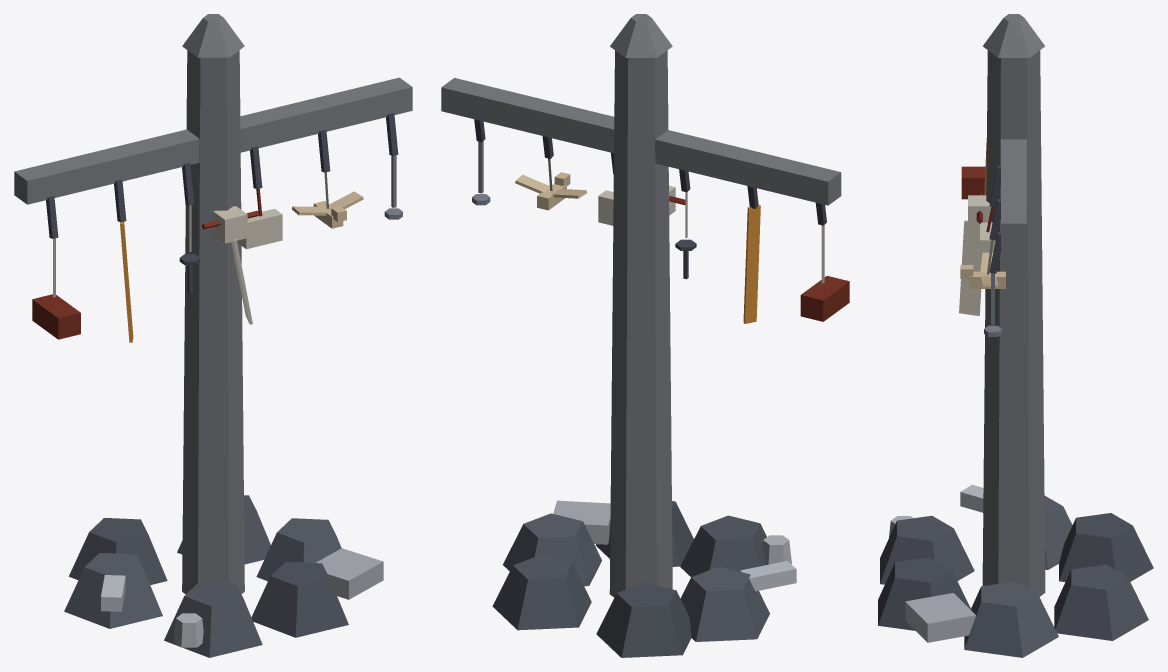
File: letting_post_word.glb
3 renders of one model, left to right at view 1: azimuth 30°, elevation 25°; view 2: azimuth 150°, elevation 25°; view 3: azimuth 270°, elevation 25°, orthographic.
Visible parts, largest first — view 1: silverfog_d40, slate_d30, slate_d20, slate_d25, bone_d15, ink_l20, silverfog_d15, coal_d35, driftwood_l10, silverfog_d10, silverfog_d5, ember_d10; view 2: silverfog_d40, slate_d25, slate_d20, slate_d30, coal_d35, ember_d10, silverfog_d15, ink_l20, driftwood_l10, silverfog_d5, silverfog_d10, bone_d15; view 3: silverfog_d40, slate_d25, slate_d30, slate_d20, silverfog_d15, bone_d15, driftwood_l10, ink_l20, coal_d35, silverfog_d5.
Boxes of the visible parts, x1,y1,x2,y2 form: silverfog_d40: (14,14,412,594); slate_d30: (69,518,348,637); slate_d20: (64,518,341,628); slate_d25: (164,495,270,657); bone_d15: (213,206,282,324); ink_l20: (46,113,398,293); silverfog_d15: (316,548,383,599); coal_d35: (32,210,258,339); driftwood_l10: (292,191,363,228); silverfog_d10: (173,613,203,647); silverfog_d5: (101,575,125,611); ember_d10: (120,221,133,342); silverfog_d40: (441,14,841,597); slate_d25: (492,515,766,630); slate_d20: (503,513,769,641); slate_d30: (595,501,693,657); coal_d35: (669,196,849,321); ember_d10: (743,204,760,323); silverfog_d15: (553,500,610,544); ink_l20: (474,119,826,279); driftwood_l10: (515,172,586,210); silverfog_d5: (740,561,796,591); silverfog_d10: (762,535,791,564); bone_d15: (598,185,675,225); silverfog_d40: (982,14,1045,596); slate_d25: (880,515,1148,640); slate_d30: (878,513,1153,630); slate_d20: (964,496,1072,657); silverfog_d15: (905,593,975,642); bone_d15: (959,195,995,315); driftwood_l10: (960,252,1005,288); ink_l20: (989,165,1001,273); coal_d35: (961,166,985,223); silverfog_d5: (960,484,983,512).
Size of the model in its own units: 1.7 by 2.42 by 1.05.
